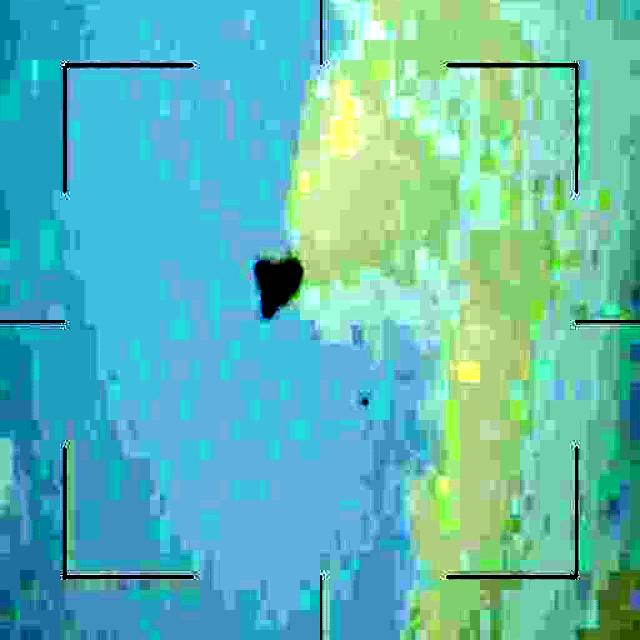bird: (250, 254, 312, 326)
